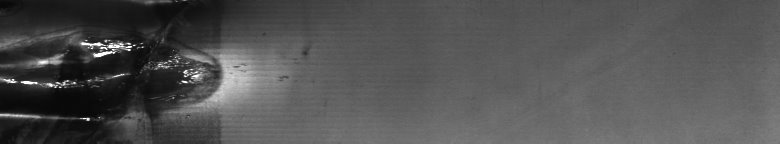ke: (73, 0, 316, 144)
